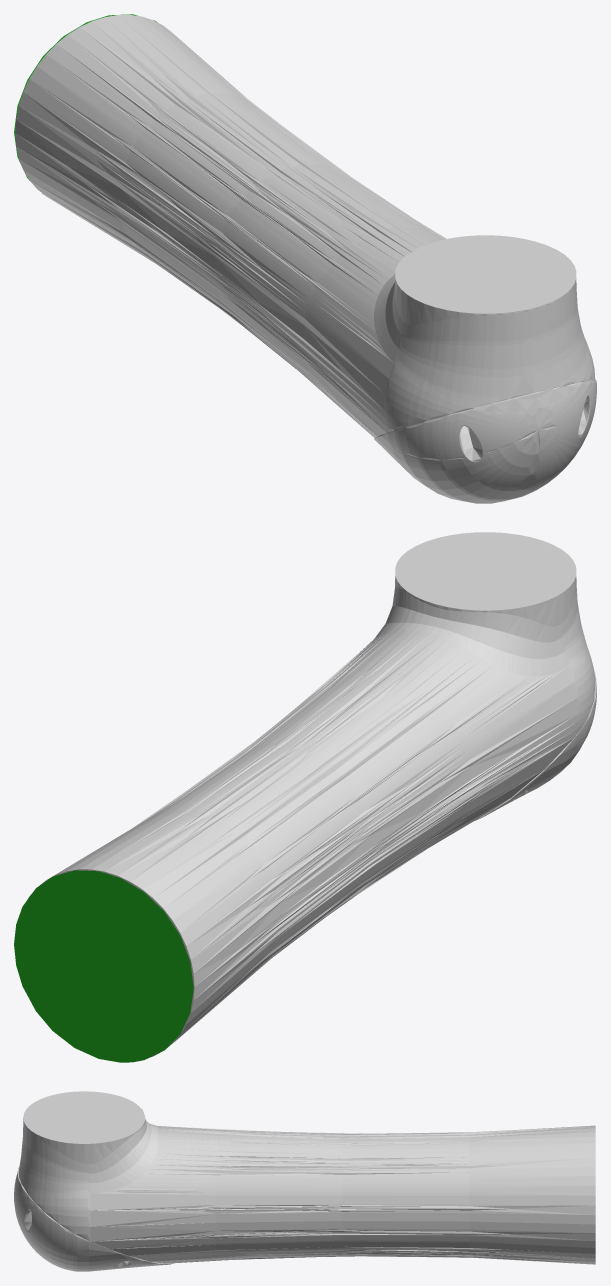
3 views of the same model, one above another, from view 1: azimuth 30°, elevation 25°; view 2: azimuth 150°, elevation 25°; view 3: azimuth 270°, elevation 25° (orthographic). The views are drawn at different scales.
Parts seen in each view (by area): view 1: node; view 2: node; view 3: node.
Boxes of the visible parts, x1,y1,x2,y2 form: node: (14, 14, 596, 503); node: (14, 532, 596, 1062); node: (14, 1091, 595, 1271).
Size of the model in its own units: 114 by 123 by 440.
